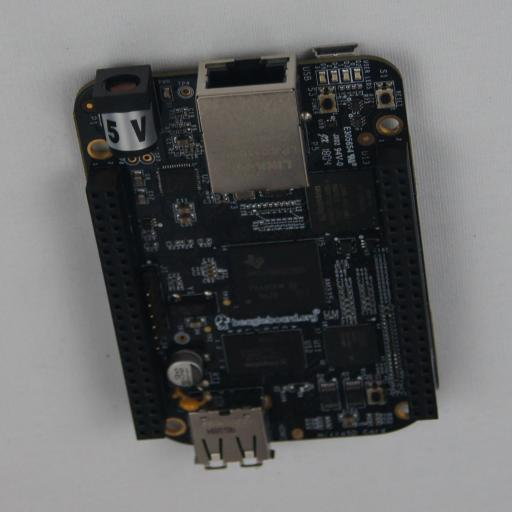Beaglebone Black: (72, 44, 438, 469)
